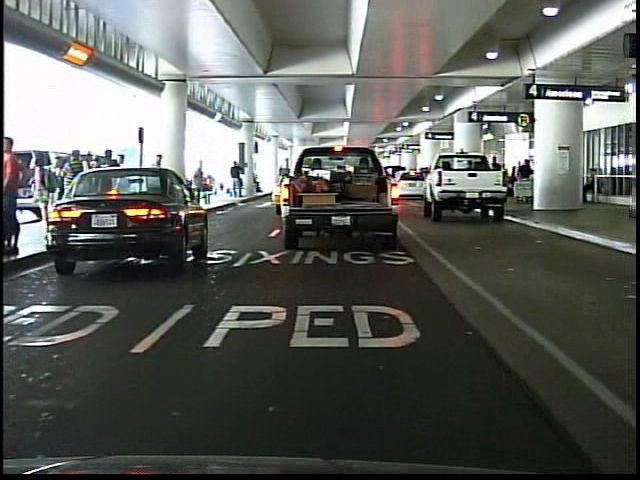person: (6, 135, 29, 259), (147, 151, 170, 222), (192, 156, 212, 222), (230, 161, 248, 200)
